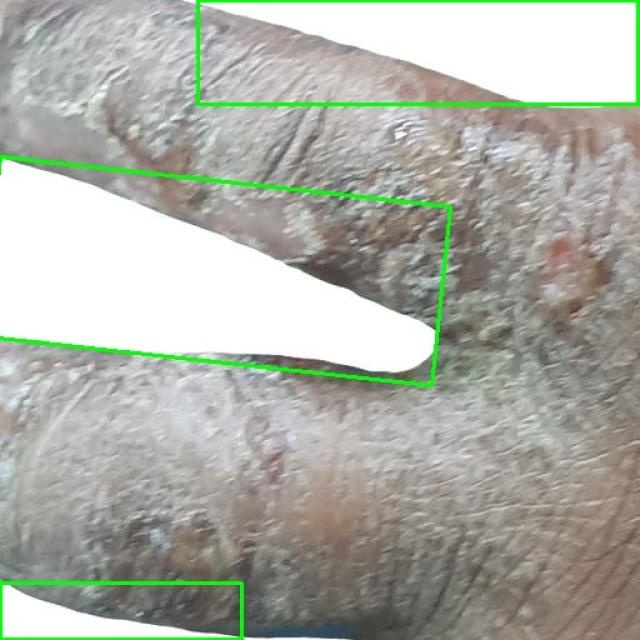Eczema: (0, 155, 452, 386), (199, 0, 639, 105), (0, 582, 241, 639)
